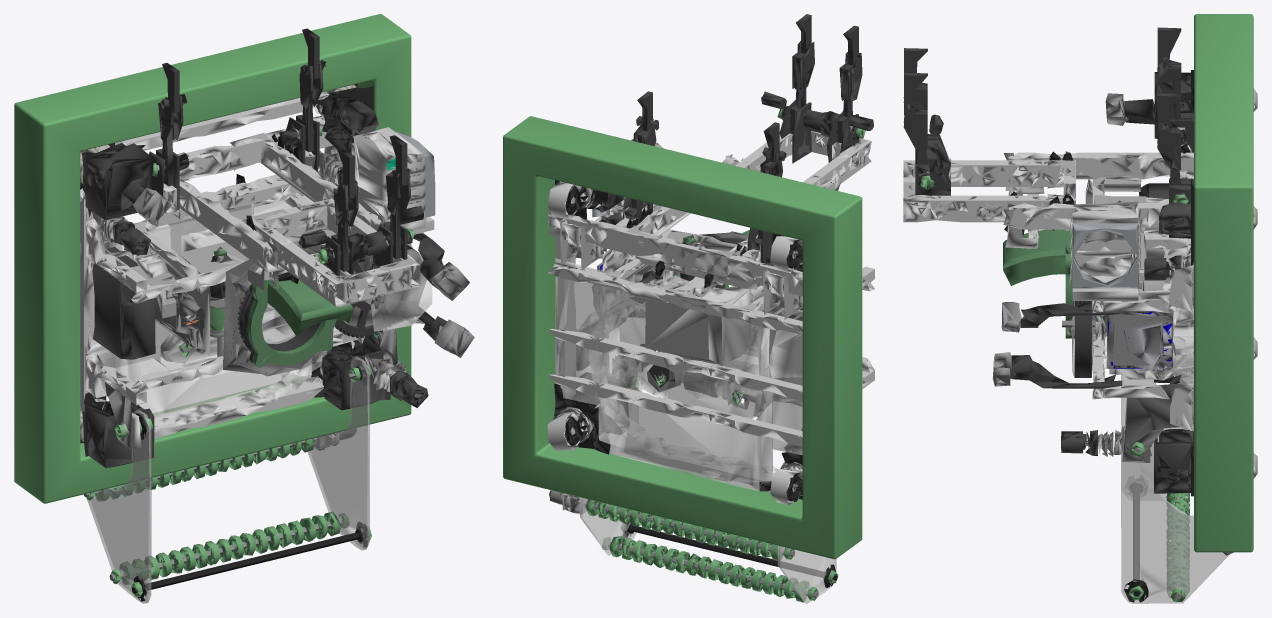
File: robot-lite.glb
3 views of the same model, side by side, from view 1: azimuth 30°, elevation 25°; view 2: azimuth 150°, elevation 25°; view 3: azimuth 270°, elevation 25° (orthographic). The views are drawn at different scales.
Visible parts, largest first — view 1: FrameControl, BumperPlane, IndexWristRControl, ClimberControlInner, ClimberControlOuter, TurretRControl, TurretGearRControl; view 2: BumperPlane, FrameControl, IndexWristRControl, ClimberControlInner, ClimberControlOuter; view 3: FrameControl, BumperPlane, ClimberControlInner, IndexWristRControl, ClimberControlOuter, TurretRControl.
Part boxes in pixels (box(x1,y1,x2,y2)): FrameControl: box(80, 83, 474, 468); BumperPlane: box(14, 14, 411, 503); IndexWristRControl: box(84, 356, 377, 603); ClimberControlInner: box(242, 135, 423, 306); ClimberControlOuter: box(149, 28, 325, 226); TurretRControl: box(237, 279, 353, 367); TurretGearRControl: box(334, 261, 413, 337); BumperPlane: box(503, 116, 862, 559); FrameControl: box(547, 139, 874, 505); IndexWristRControl: box(549, 366, 838, 603); ClimberControlInner: box(735, 14, 873, 186); ClimberControlOuter: box(616, 91, 786, 289); FrameControl: box(992, 70, 1257, 496); BumperPlane: box(1194, 14, 1253, 552); ClimberControlInner: box(903, 48, 1075, 230); IndexWristRControl: box(1121, 374, 1233, 603); ClimberControlOuter: box(1157, 27, 1193, 256); TurretRControl: box(1003, 229, 1091, 338).
Bounding box in the file's own units: 0.8763 × 1.16 × 0.7558.
